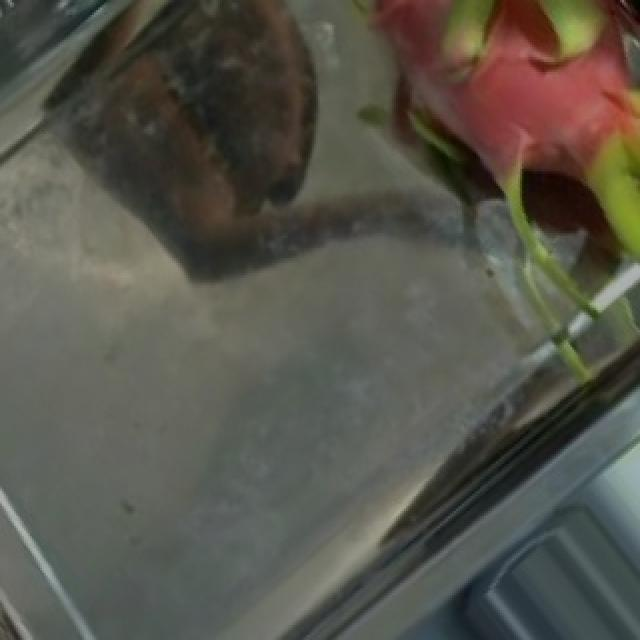fruit: (254, 0, 638, 357)
